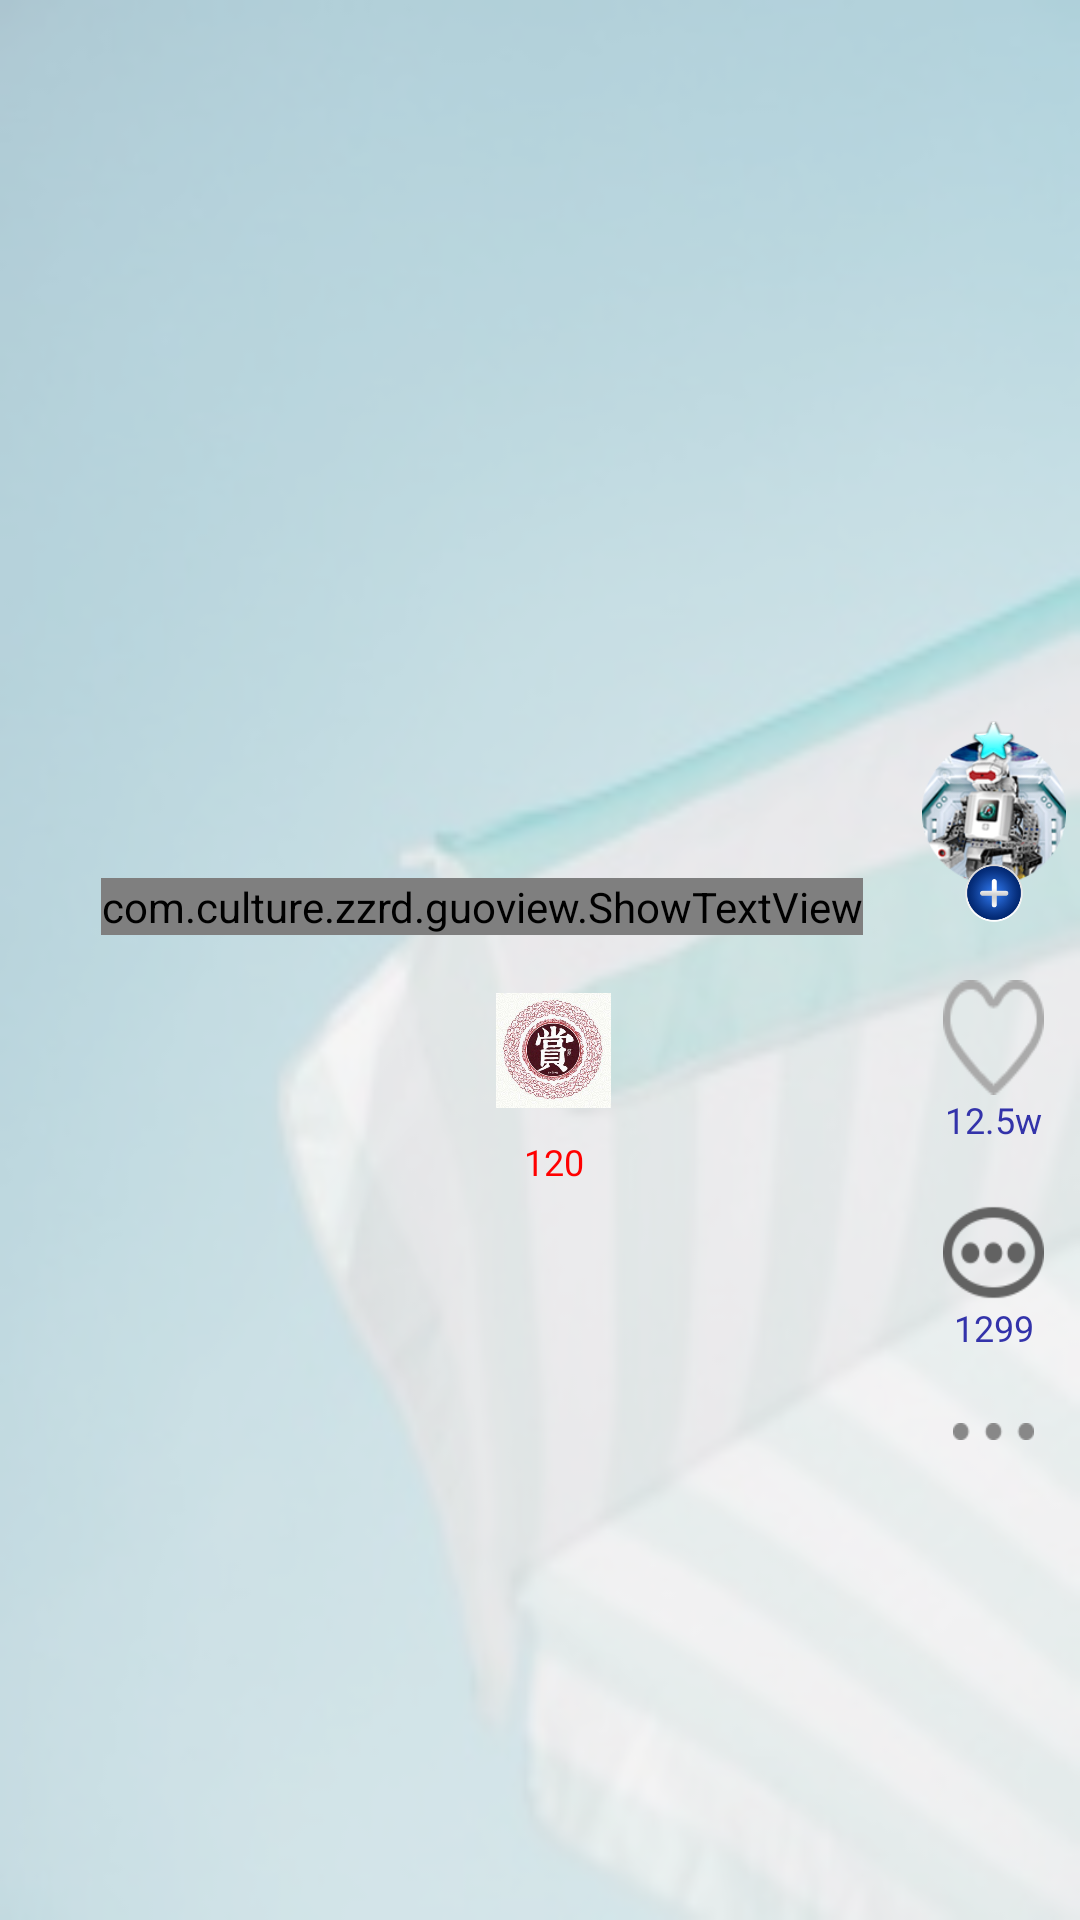

Named icons in this screenshot (1080 × 1920) and their bounding boxes, BBox(x1, y1, x2, y2):
like: BBox(943, 980, 1044, 1095)
more points: BBox(953, 1423, 1034, 1440)
